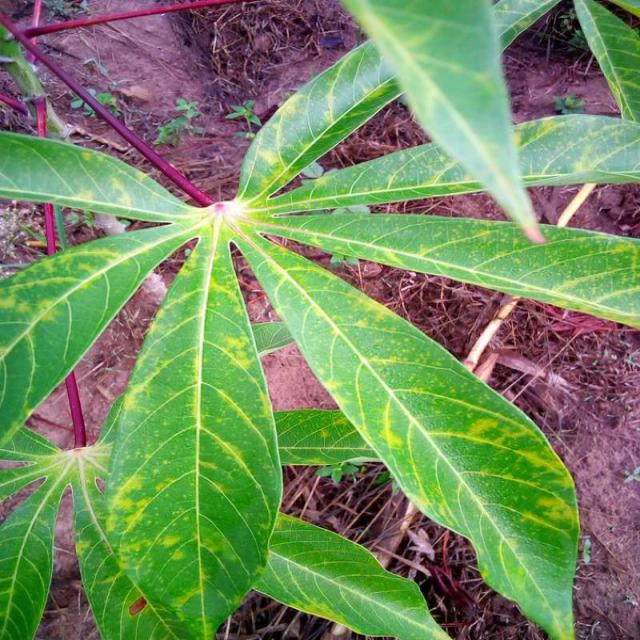cassava leaf: (1, 6, 637, 638), (228, 220, 581, 638), (94, 213, 284, 637)
